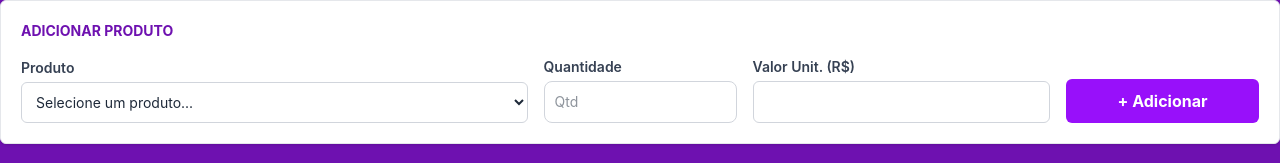
Regras de Negócio: ItemPedidoForm › deve apresentar a badge RUIM quando o desconto passa dos 10%
This screenshot has width=1280, height=163.
Select "X-Wing (Mult: 2) - R$ 60.000,00" in the dropdown at (274, 102), box [21,82,528,123]
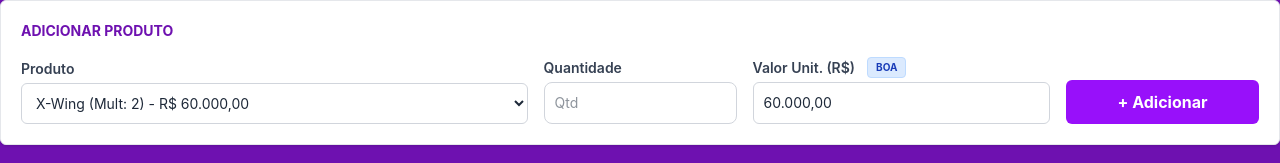
Replace the text in the field labelled "Valor Unit. (R$)" with "50000" at (901, 103), box [752,82,1050,124]
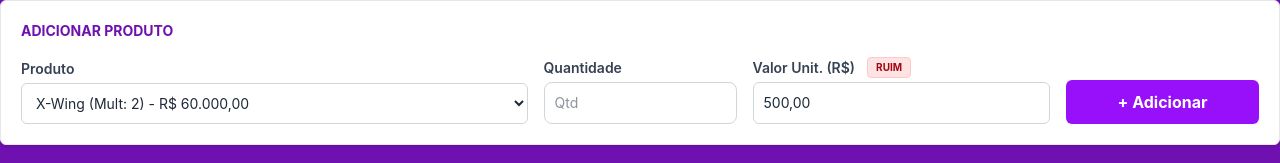
Now the text "RUIM" is shown, box [867,57,911,78]
